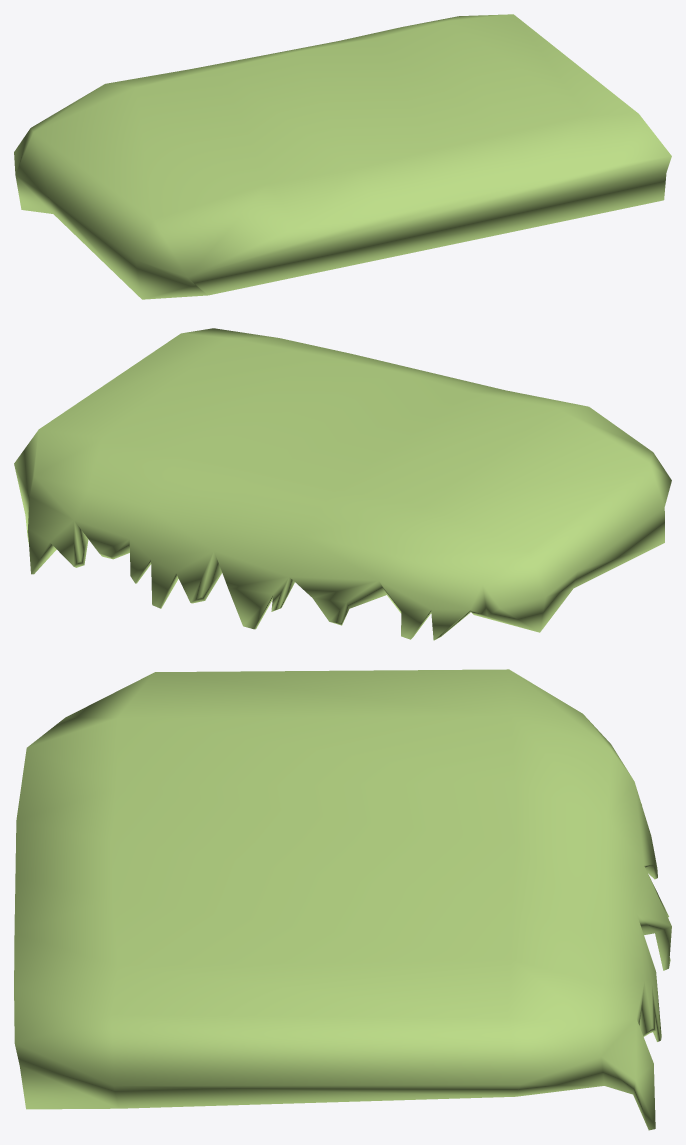
Rendered from platform_end.fbx.
The picture shows the model from 3 angles, top to bottom: view 1: azimuth 30°, elevation 25°; view 2: azimuth 150°, elevation 25°; view 3: azimuth 270°, elevation 25°; orthographic projection. The views are drawn at different scales.
Parts seen in each view (by area): view 1: platform end; view 2: platform end; view 3: platform end.
Boxes of the visible parts, x1,y1,x2,y2 form: platform end: [14, 14, 671, 299]; platform end: [14, 328, 671, 640]; platform end: [14, 669, 671, 1130].
Size of the model in its own units: 1599 by 338 by 1178.
